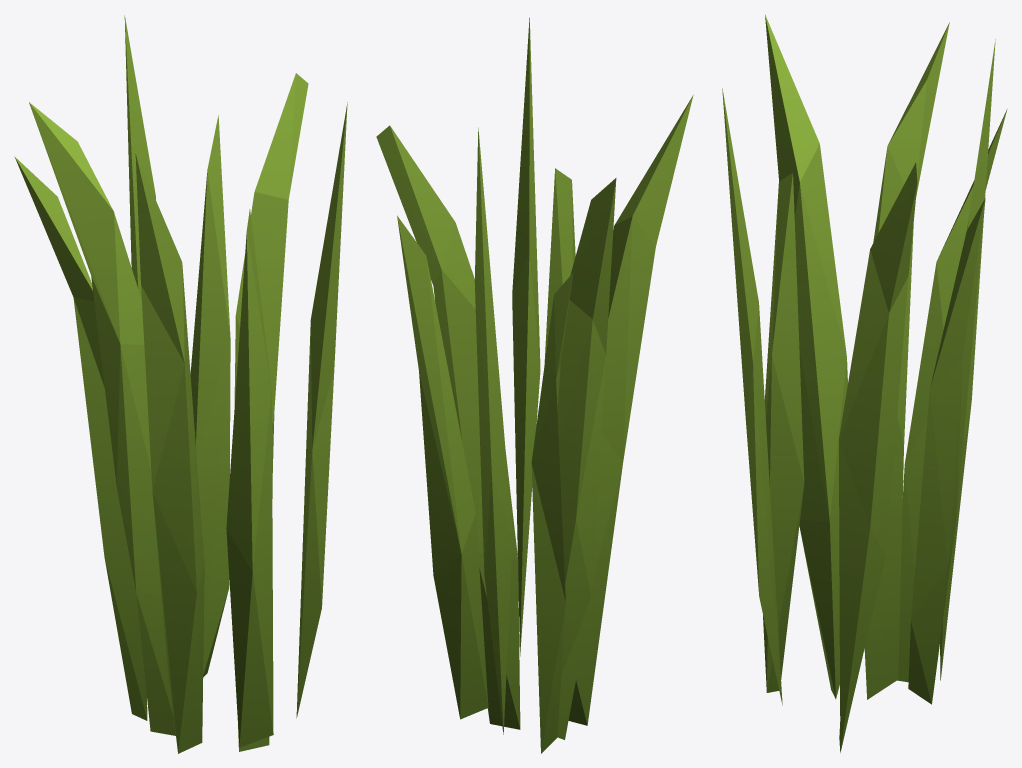
Rendered from ZLP_Grass_A_15.FBX.
3 renders of one model, left to right at view 1: azimuth 30°, elevation 25°; view 2: azimuth 150°, elevation 25°; view 3: azimuth 270°, elevation 25°, orthographic. The views are drawn at different scales.
Visible parts, largest first — view 1: ZLP_Grass_A_15; view 2: ZLP_Grass_A_15; view 3: ZLP_Grass_A_15.
Part boxes in pixels (x1=…): ZLP_Grass_A_15: x1=14, y1=15, x2=347, y2=753; ZLP_Grass_A_15: x1=376, y1=17, x2=693, y2=753; ZLP_Grass_A_15: x1=722, y1=14, x2=1007, y2=752.
Bounding box in the file's own units: 31.95 × 79.93 × 30.24.
